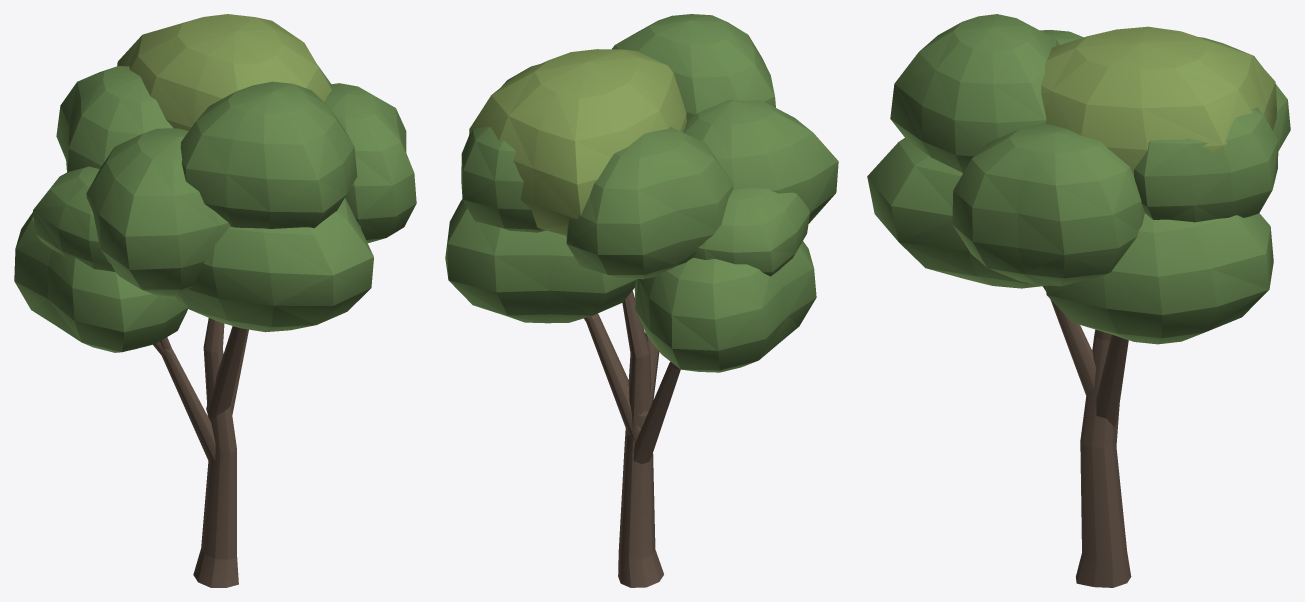
The model's file is TREE_01.glb.
3 views of the same model, side by side, from view 1: azimuth 30°, elevation 25°; view 2: azimuth 150°, elevation 25°; view 3: azimuth 270°, elevation 25° (orthographic). The views are drawn at different scales.
Visible parts, largest first — view 1: CIVRUM_GAME_TREE_01; view 2: CIVRUM_GAME_TREE_01; view 3: CIVRUM_GAME_TREE_01.
Boxes of the visible parts, left/top/right/bottom form: CIVRUM_GAME_TREE_01: left=14, top=14, right=416, bottom=587; CIVRUM_GAME_TREE_01: left=445, top=14, right=838, bottom=587; CIVRUM_GAME_TREE_01: left=867, top=14, right=1290, bottom=587.
Bounding box in the file's own units: 4.32 × 6.46 × 4.46.
